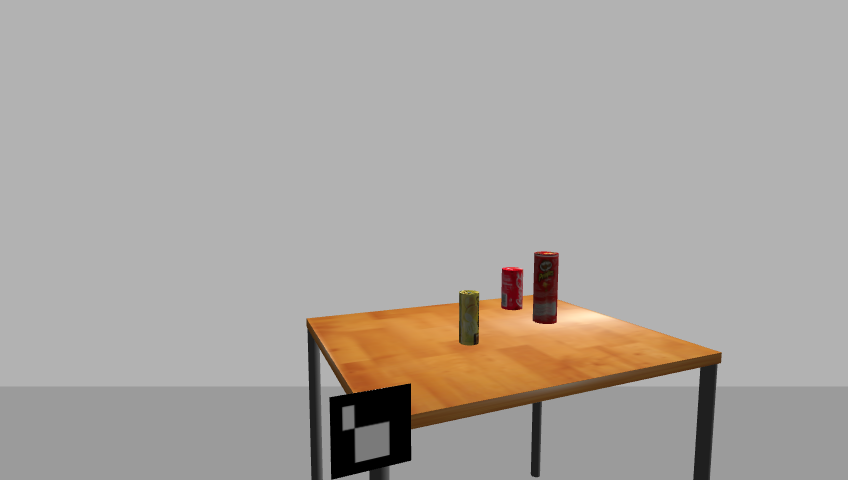aruco marker: (321, 383, 417, 480)
biscuits pack: (457, 290, 481, 348)
coke can: (500, 267, 525, 311)
dinner table: (297, 296, 731, 479)
pringles can: (532, 251, 561, 326)
